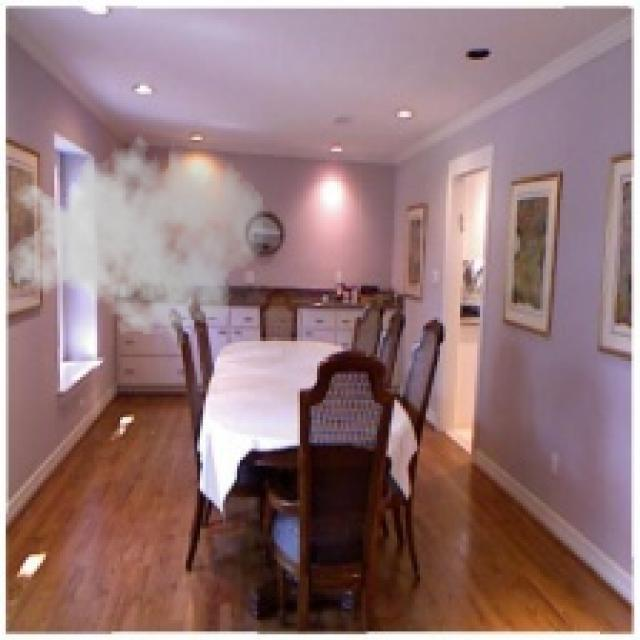Smoke: (2, 122, 268, 348)
